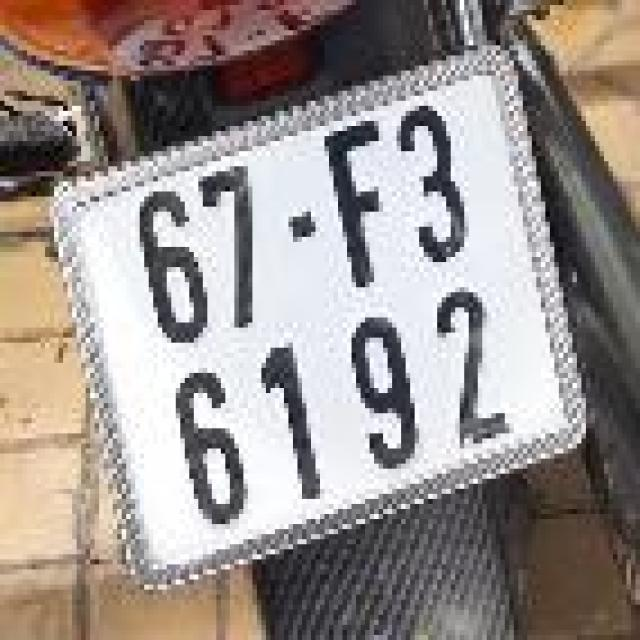1: (239, 320, 355, 517)
2: (420, 268, 531, 467)
3: (385, 88, 483, 275)
6: (160, 353, 266, 547), (124, 178, 223, 363)
7: (182, 148, 282, 344)
9: (325, 292, 442, 489)
F: (311, 106, 411, 303)
